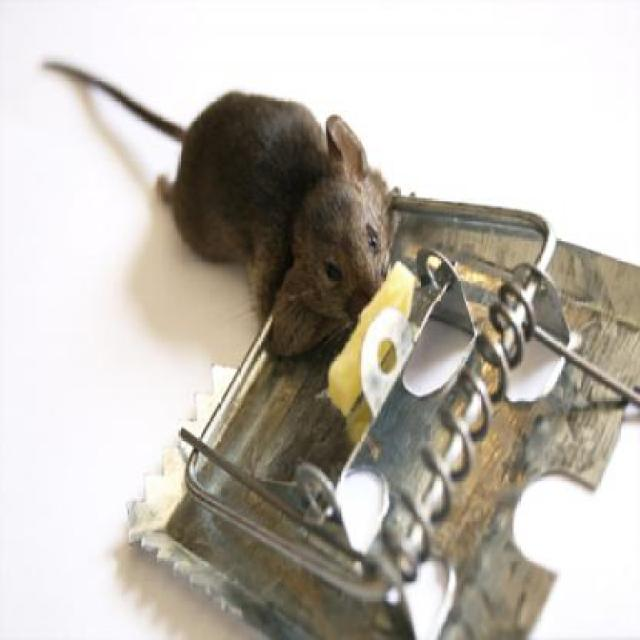Mouse: (158, 68, 402, 370)
